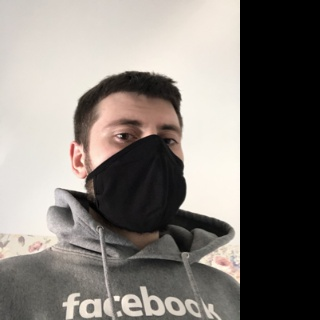with_mask: (92, 112, 187, 232)
